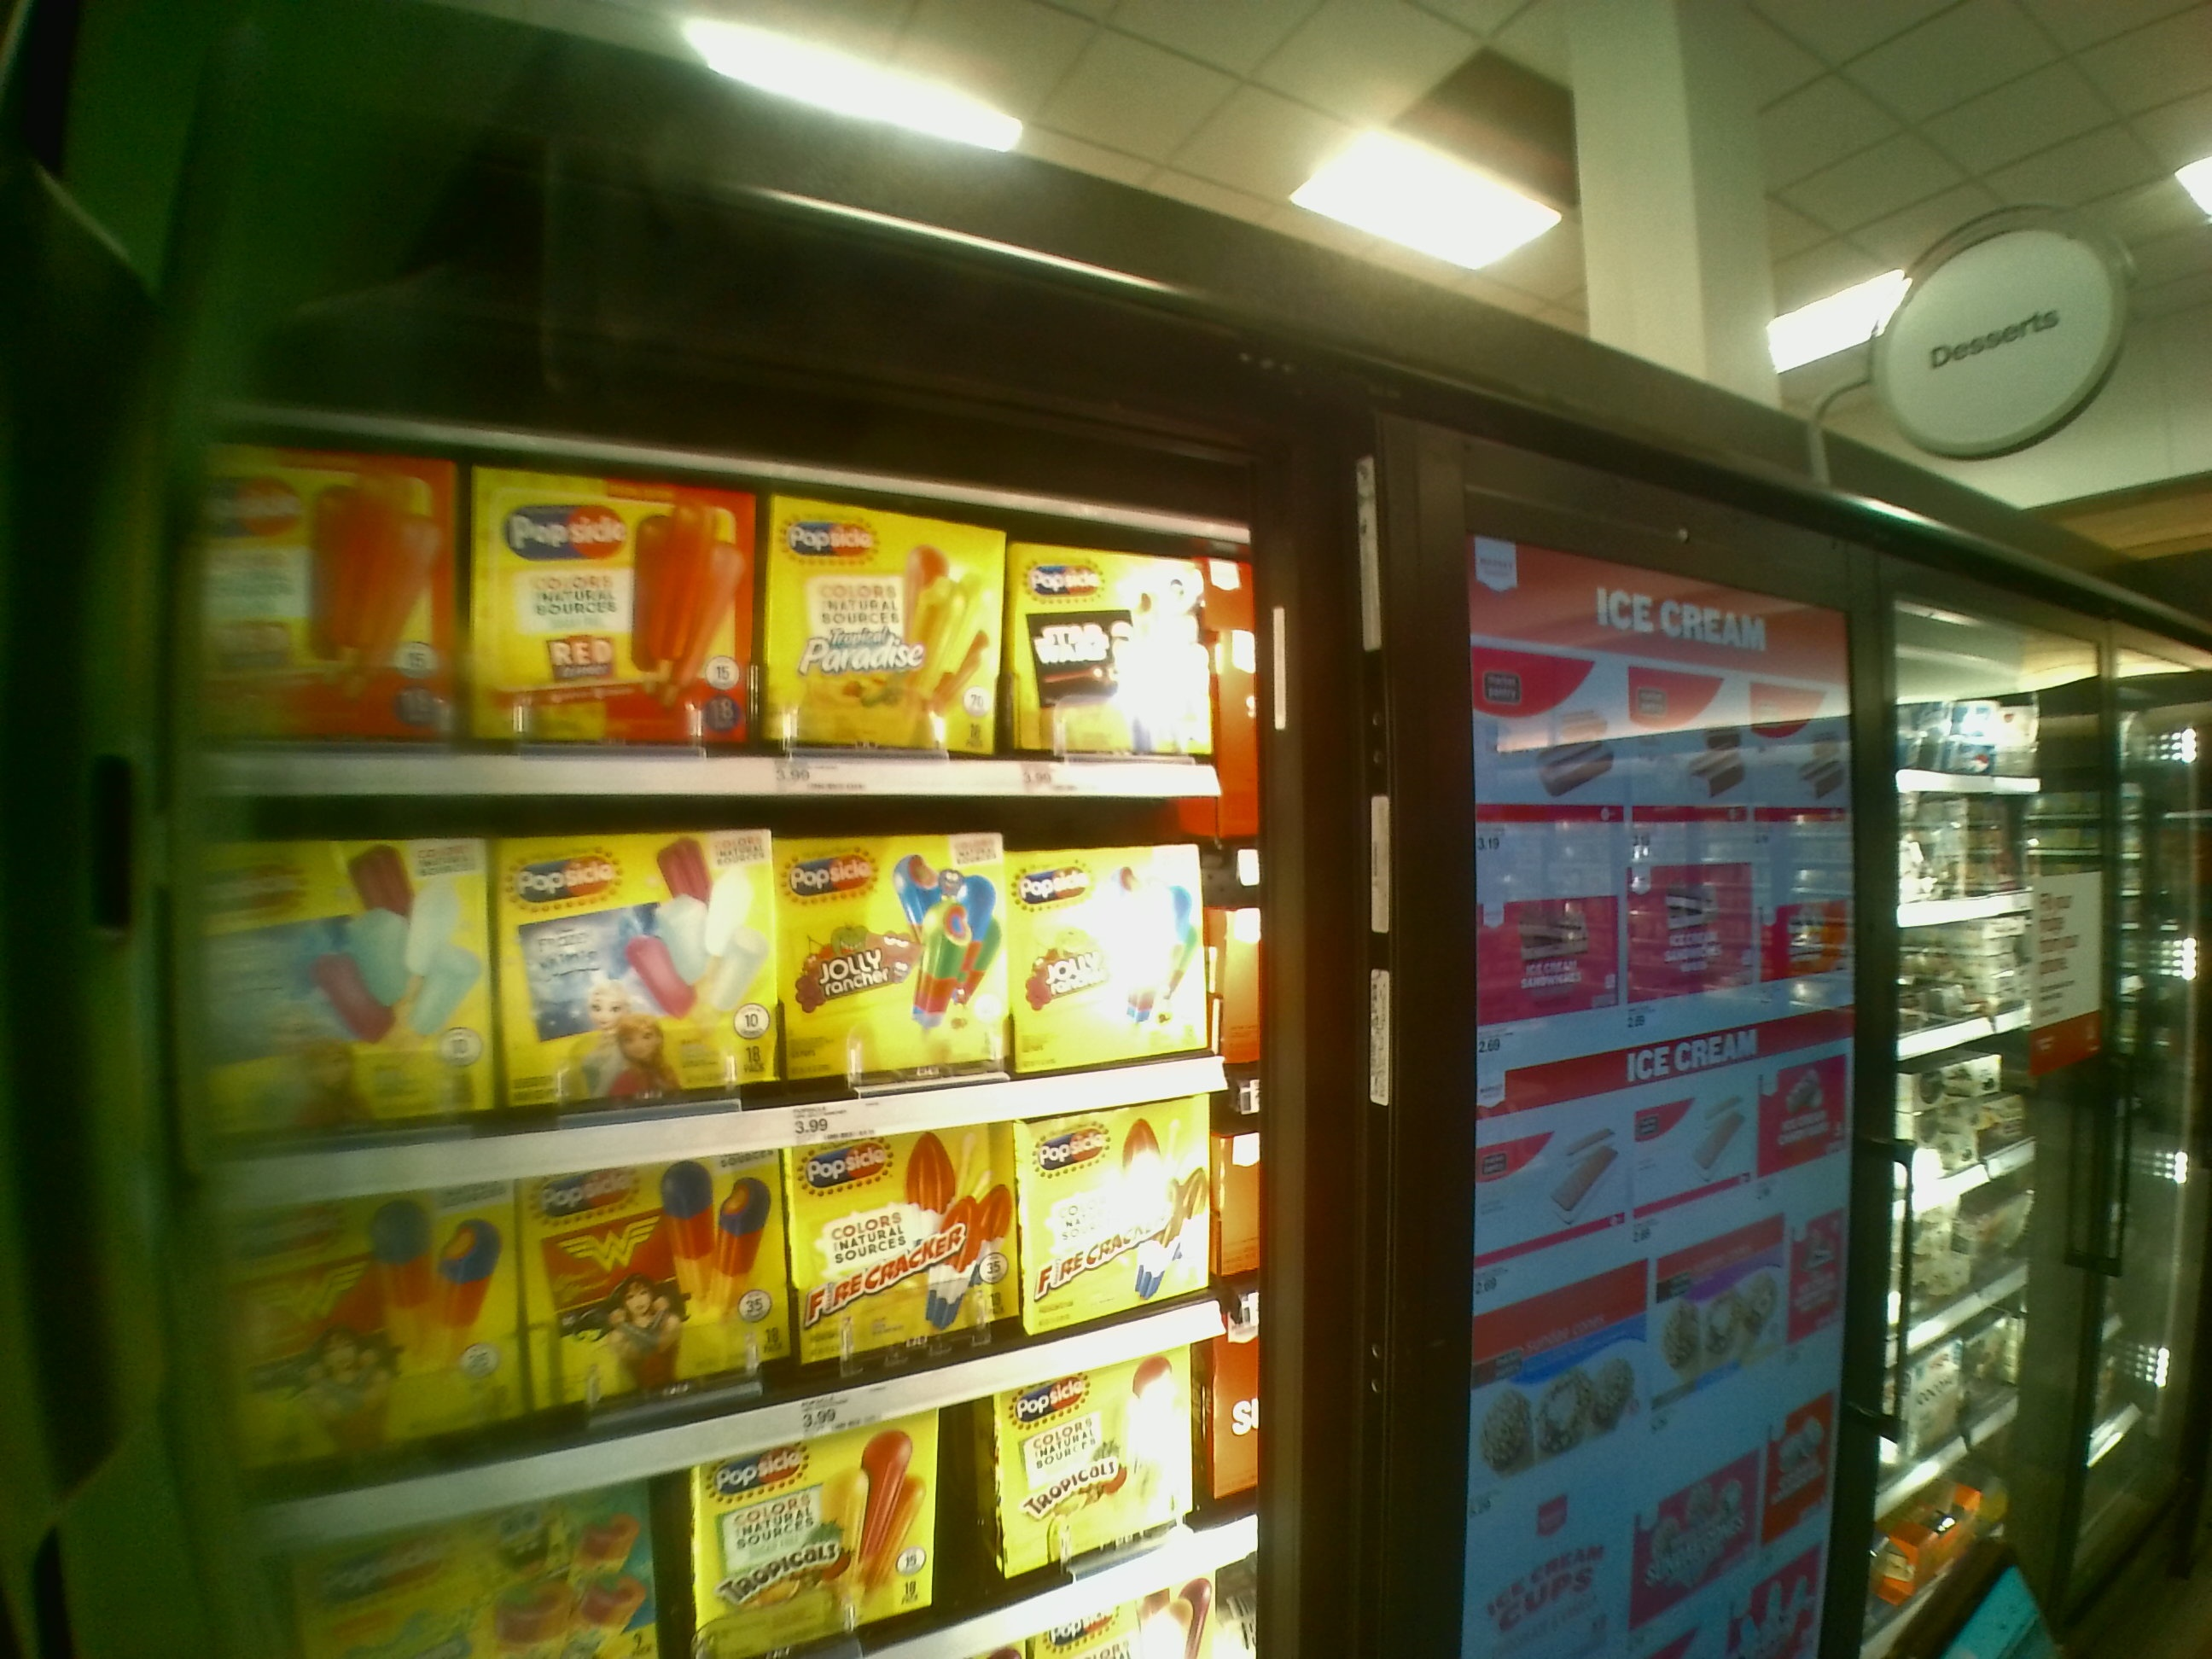shelf: (176, 427, 1237, 807), (219, 1105, 1287, 1453), (190, 816, 1264, 1143)
